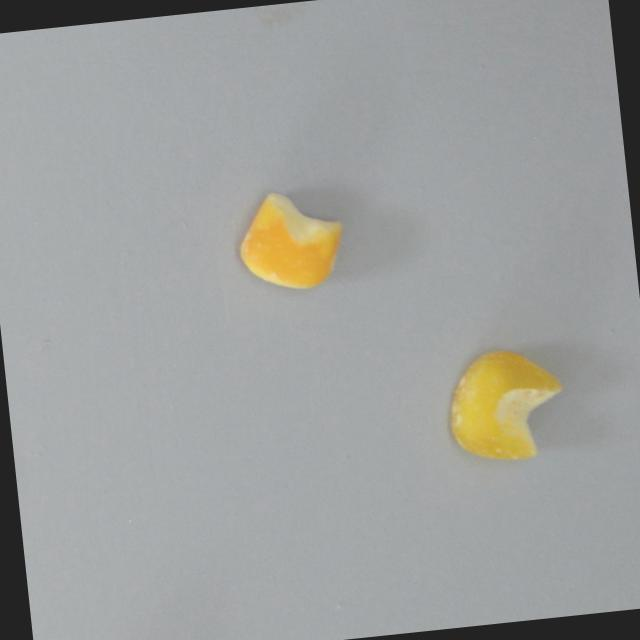dañado: (228, 182, 353, 299)
punto_negro: (439, 339, 574, 469)
